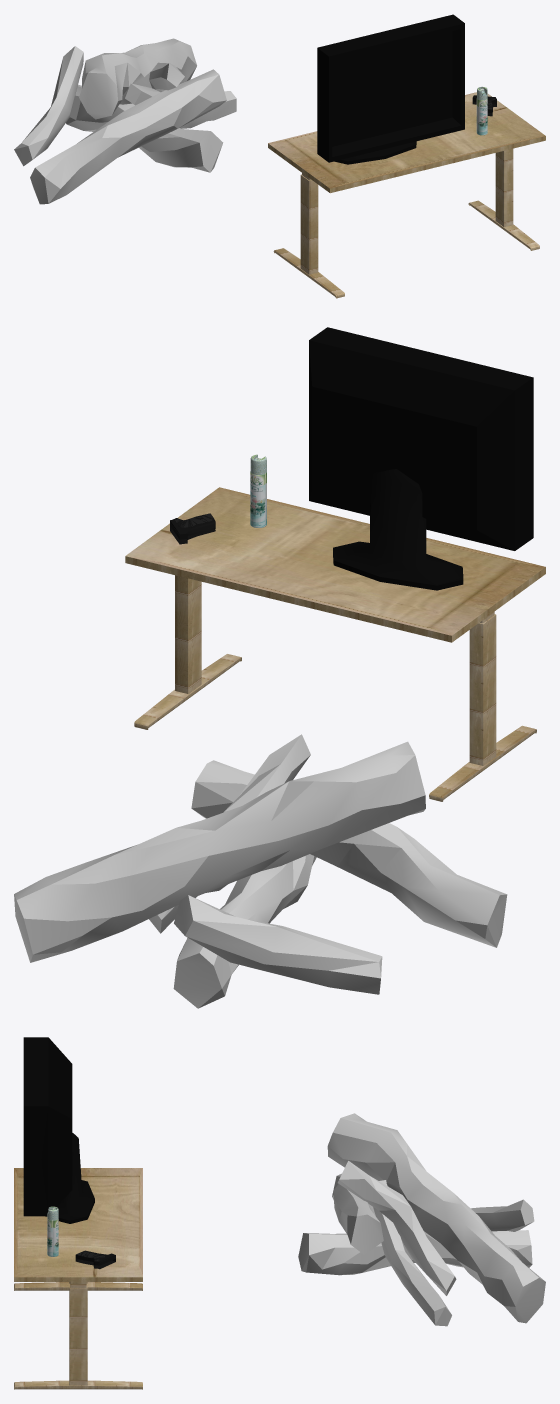
3 views of the same model, one above another, from view 1: azimuth 30°, elevation 25°; view 2: azimuth 150°, elevation 25°; view 3: azimuth 270°, elevation 25° (orthographic). The views are drawn at different scales.
Parts seen in each view (by area): view 1: firewood_2, ecran, TOP, BASE, EDGE, socle, M_AirFresh; view 2: firewood_2, ecran, TOP, BASE, socle, EDGE, M_AirFresh; view 3: firewood_2, TOP, ecran, BASE, socle, EDGE, M_AirFresh.
Part boxes in pixels (bbox=[...]): firewood_2: bbox=[14, 38, 236, 204]; ecran: bbox=[317, 14, 464, 162]; TOP: bbox=[268, 92, 545, 188]; BASE: bbox=[273, 148, 539, 298]; EDGE: bbox=[268, 136, 545, 193]; socle: bbox=[334, 141, 416, 164]; M_AirFresh: bbox=[476, 86, 487, 135]; firewood_2: bbox=[14, 734, 507, 1008]; ecran: bbox=[309, 327, 533, 550]; TOP: bbox=[125, 487, 545, 635]; BASE: bbox=[134, 575, 536, 801]; socle: bbox=[333, 469, 463, 590]; EDGE: bbox=[125, 556, 545, 642]; M_AirFresh: bbox=[250, 454, 266, 527]; firewood_2: bbox=[298, 1113, 545, 1326]; TOP: bbox=[14, 1168, 142, 1277]; ecran: bbox=[23, 1037, 72, 1216]; BASE: bbox=[14, 1282, 142, 1389]; socle: bbox=[57, 1133, 94, 1223]; EDGE: bbox=[14, 1277, 142, 1281]; M_AirFresh: bbox=[47, 1206, 58, 1256].
Bounding box in the file's own units: 76.33 × 50.14 × 97.37.
